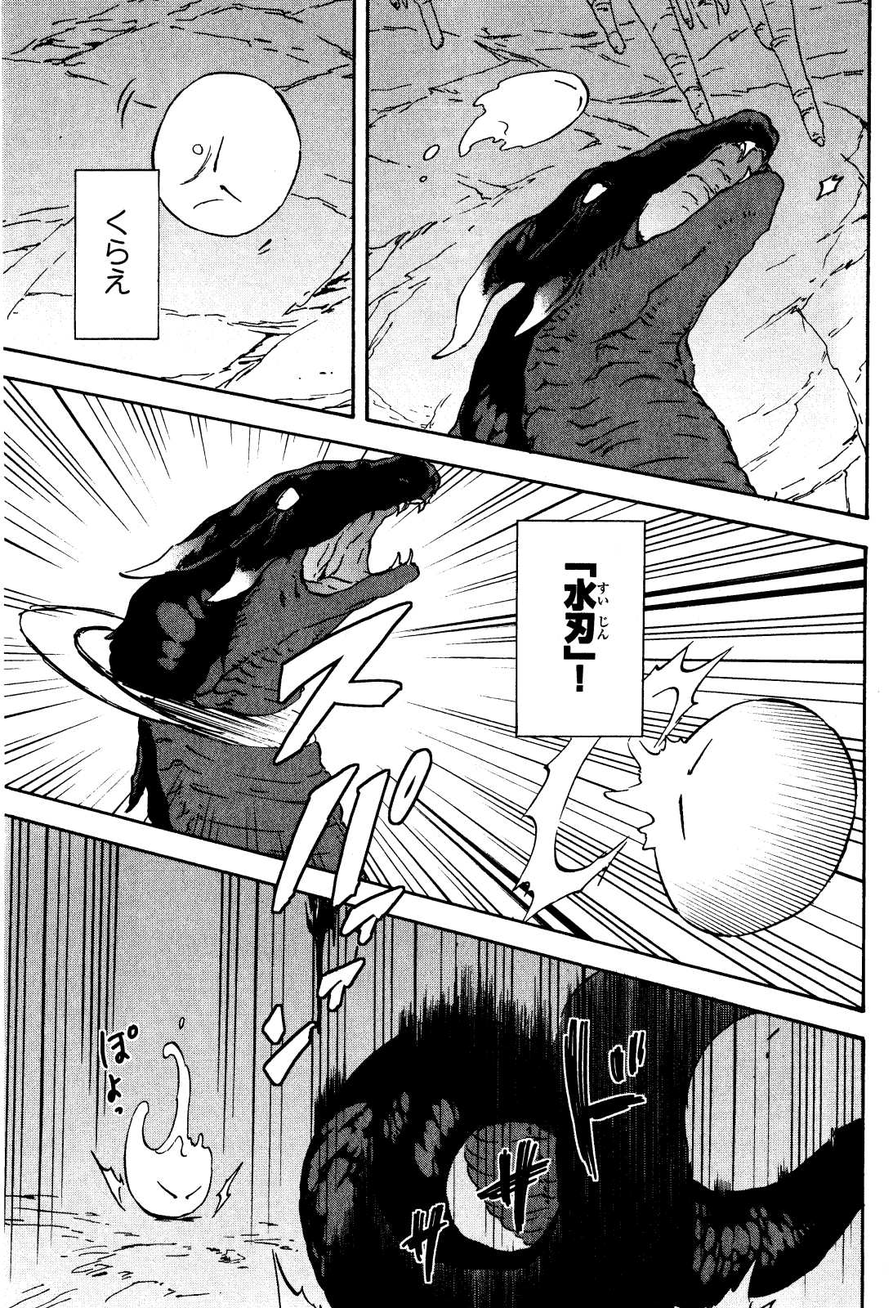bubbles: (513, 514, 645, 741), (69, 165, 163, 346)
